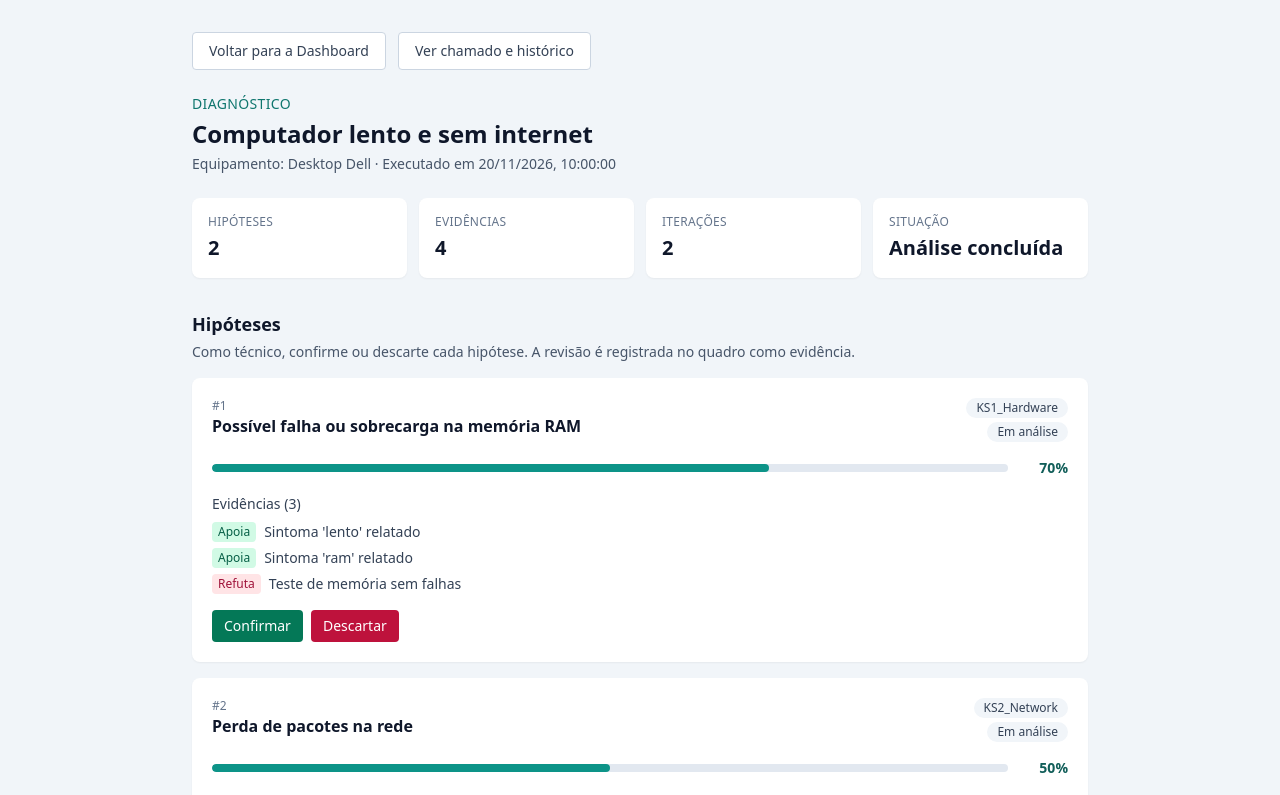
Test: DiagnosisResult › Revisão das hipóteses (TECH/ADMIN) › mostra o erro da API quando a revisão falha
The image size is (1280, 795).
Click the button "Descartar" at (355, 626), box [311,610,399,642]
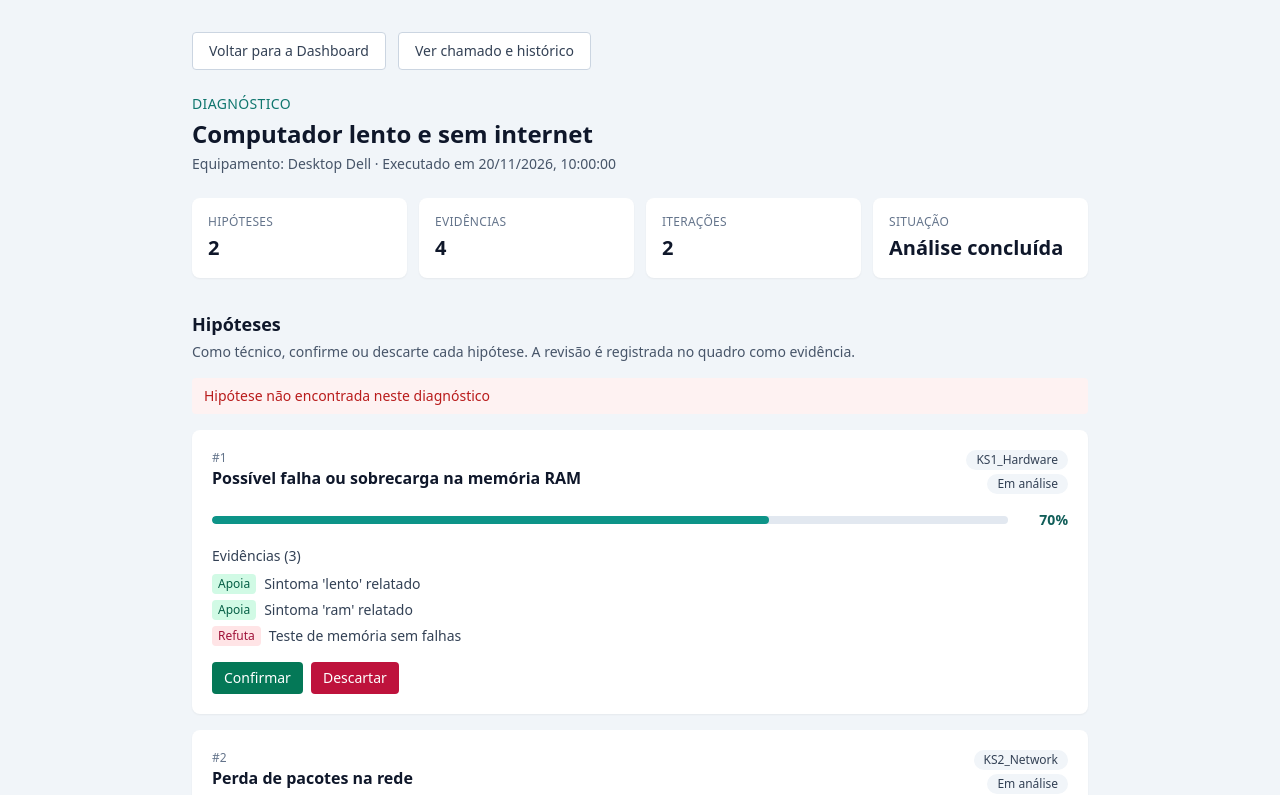
Expected: the message reads "Hipótese não encontrada neste diagnóstico", [204,386,490,405]
